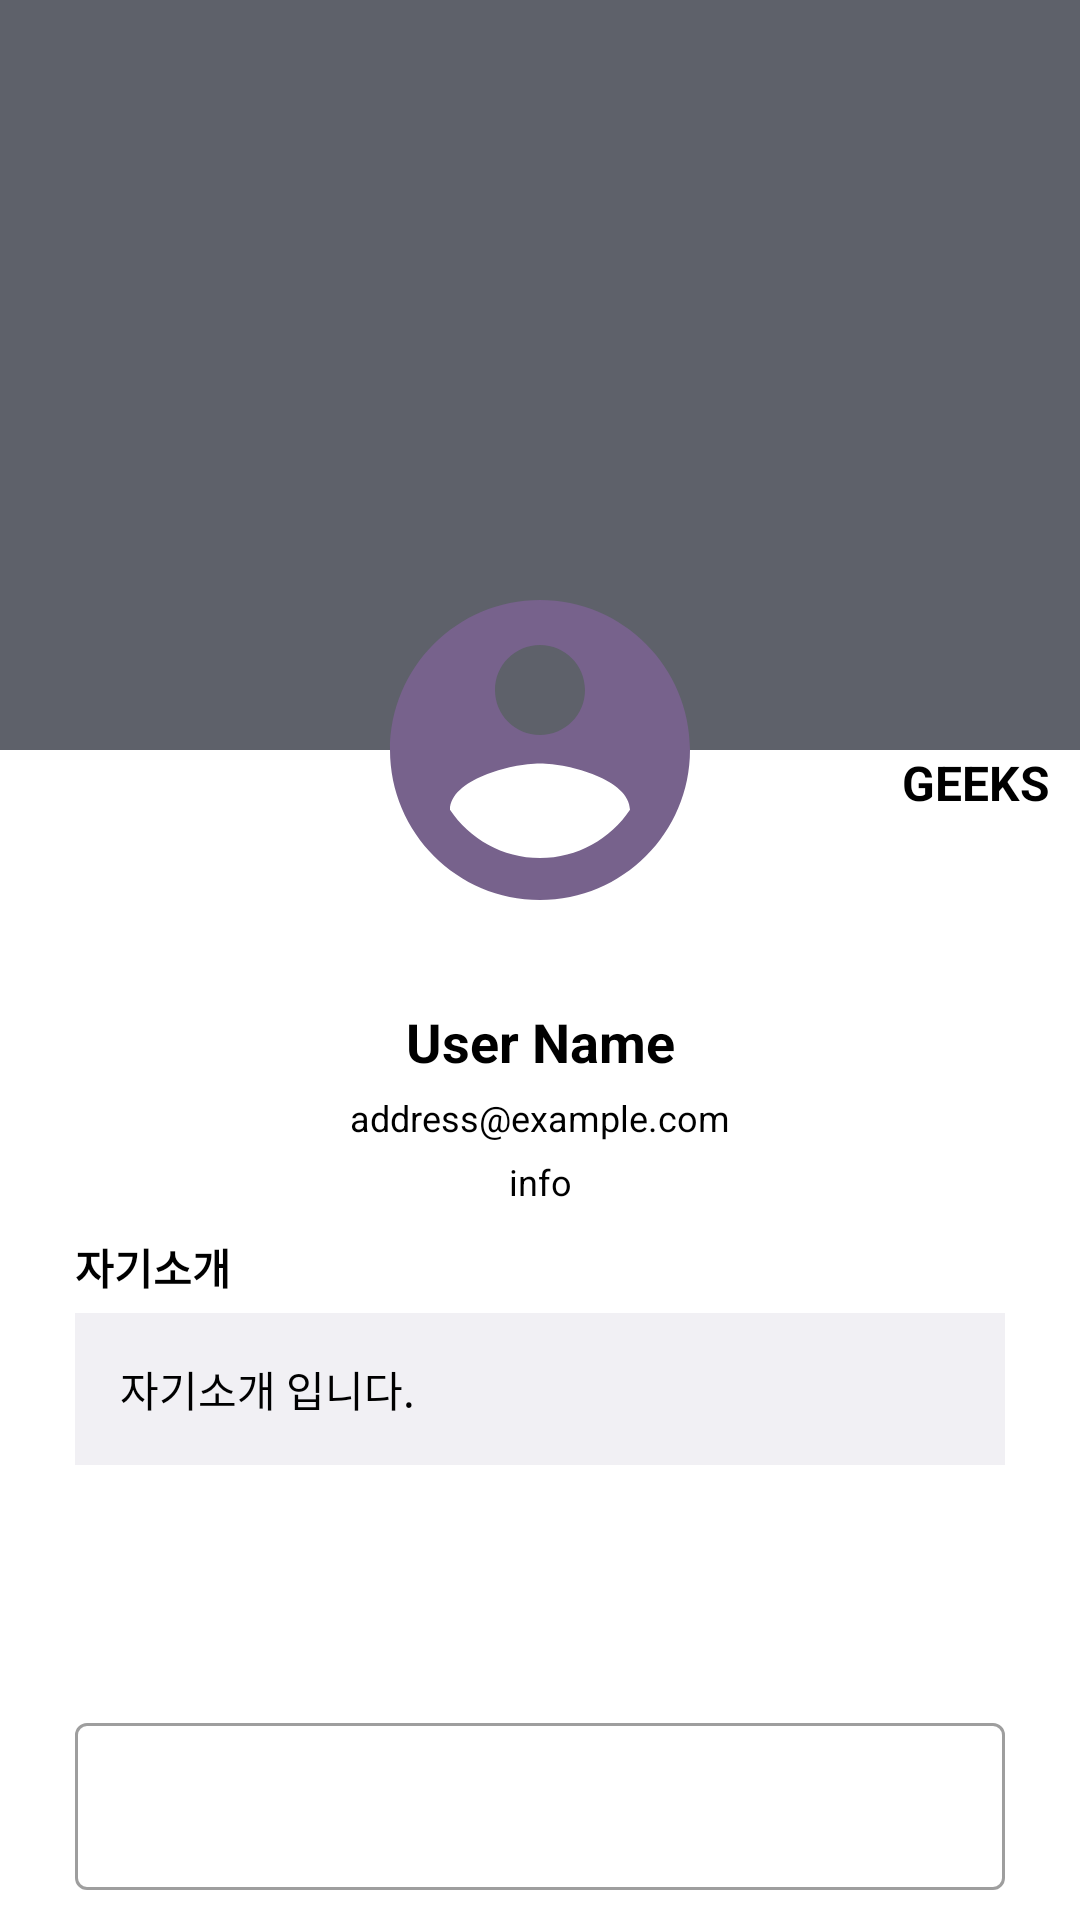

Icon click points for this 1080 x 1920 phone screenshot, format (x=x, y=y):
account circle: (x=540, y=750)
